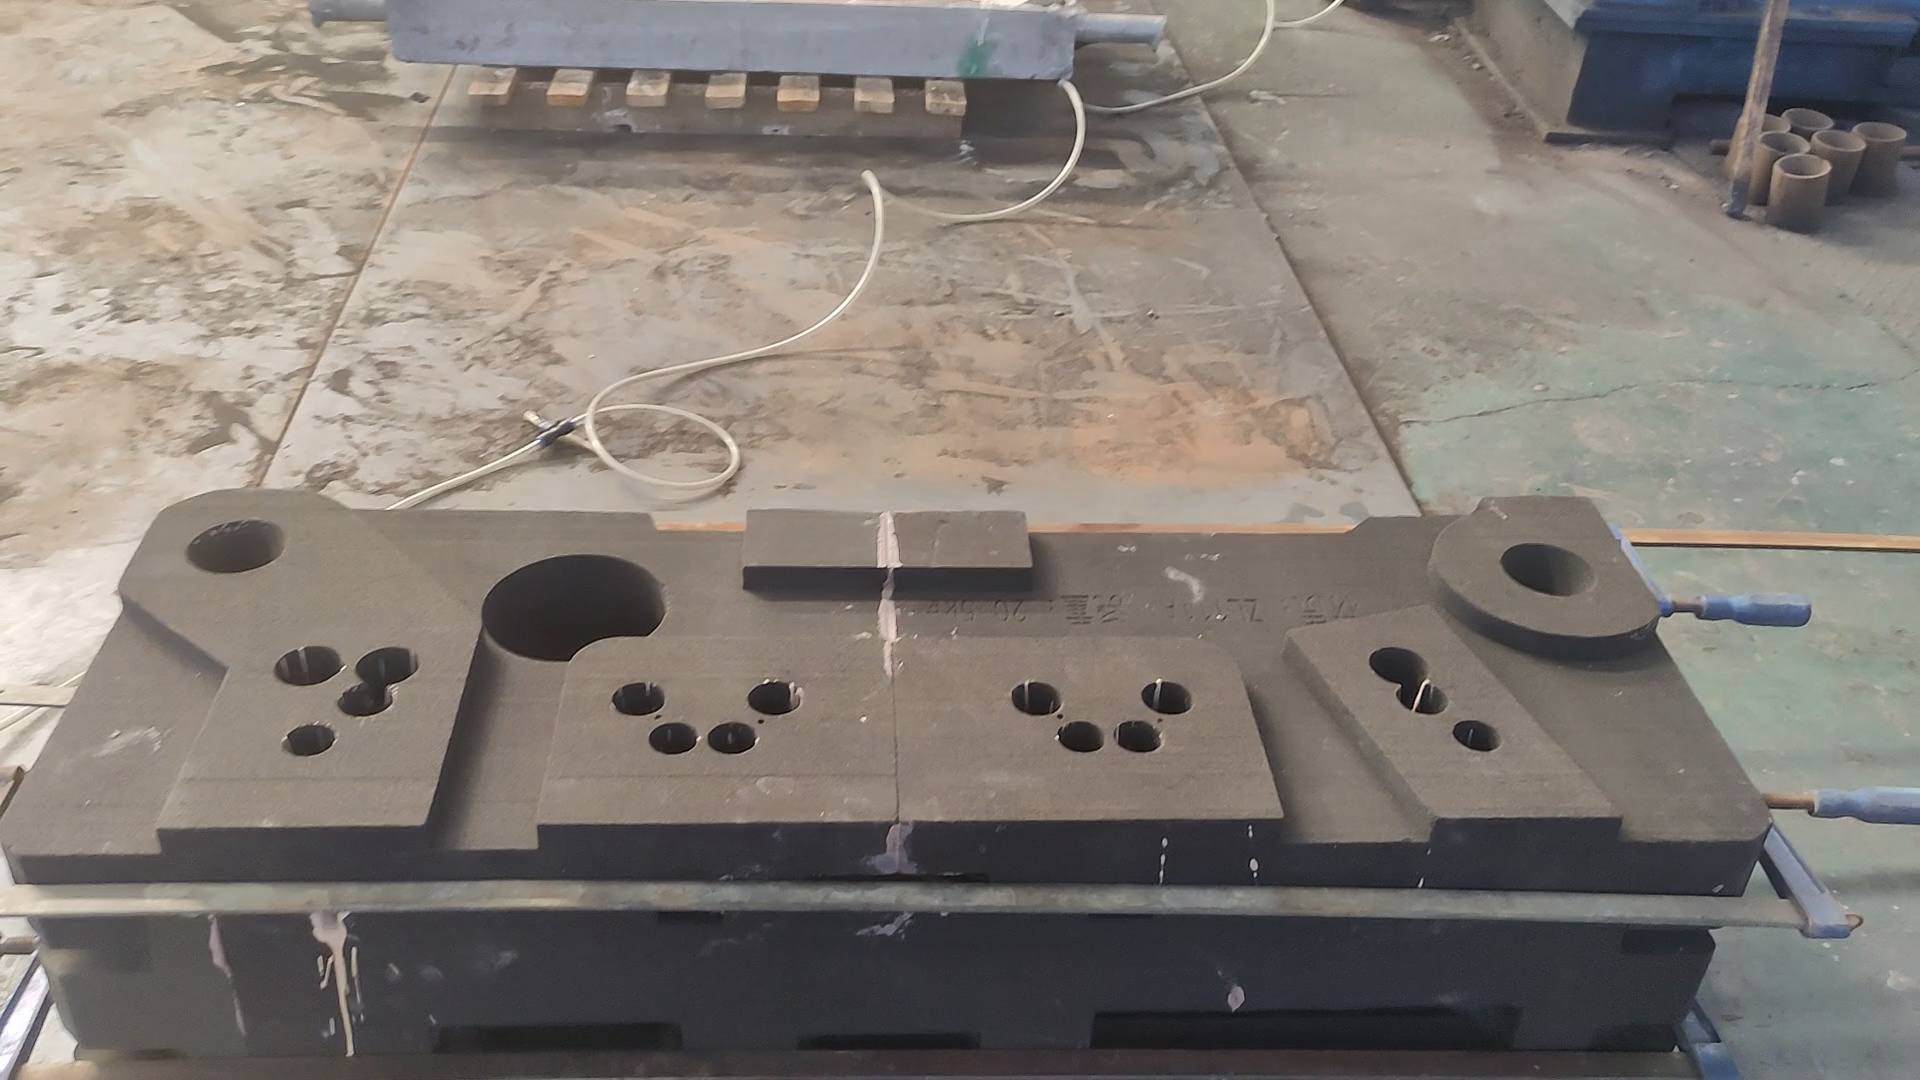pouring hole: (183, 518, 287, 574), (1501, 543, 1596, 597), (1755, 129, 1813, 153), (1775, 153, 1832, 177), (1784, 105, 1836, 131), (1815, 128, 1866, 152), (1851, 121, 1908, 142), (1741, 111, 1789, 133)
